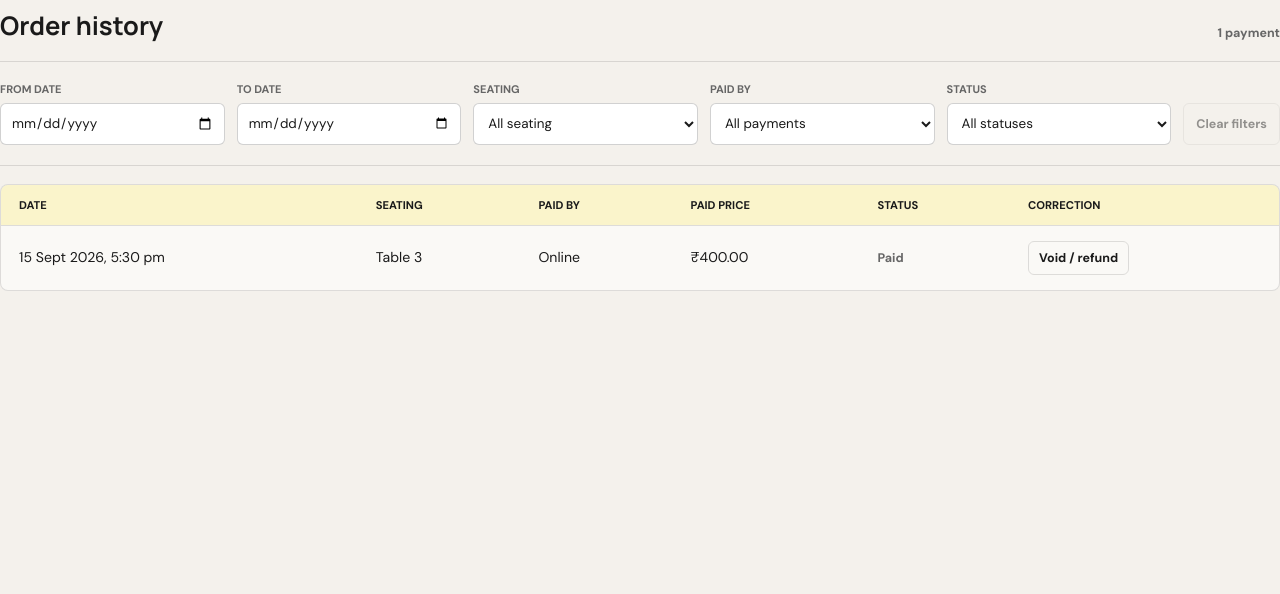
financial views › dismisses the refund review when the server rejects the correction
Click the button "Void / refund" at (1079, 258), box top-left (1028, 240), bottom-right (1129, 274)
(page scrolled)
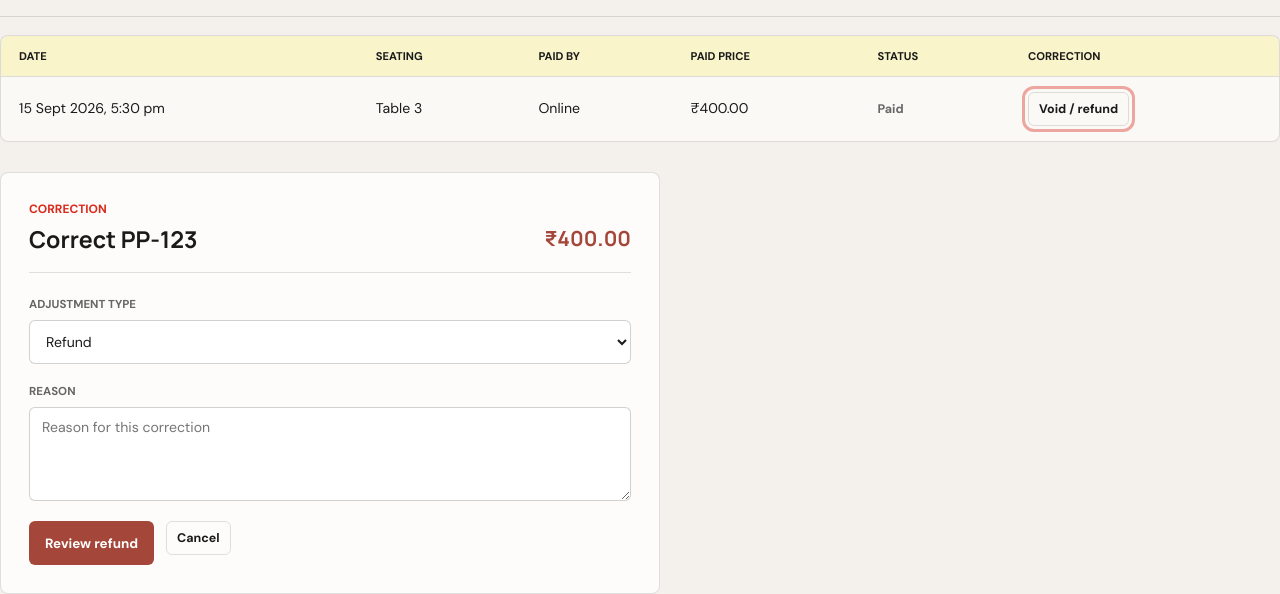
Type "Duplicate payment" into the text box labelled "Reason" at (330, 454), box top-left (29, 407), bottom-right (631, 501)
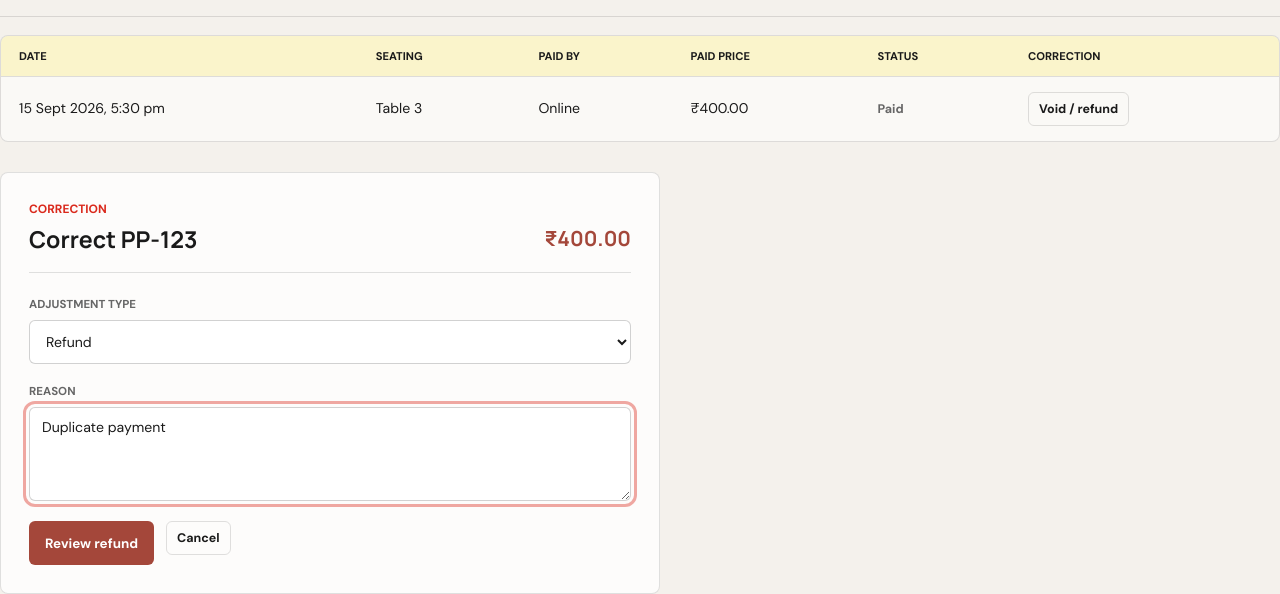
Click the button "Review refund" at (92, 543), box top-left (29, 521), bottom-right (154, 565)
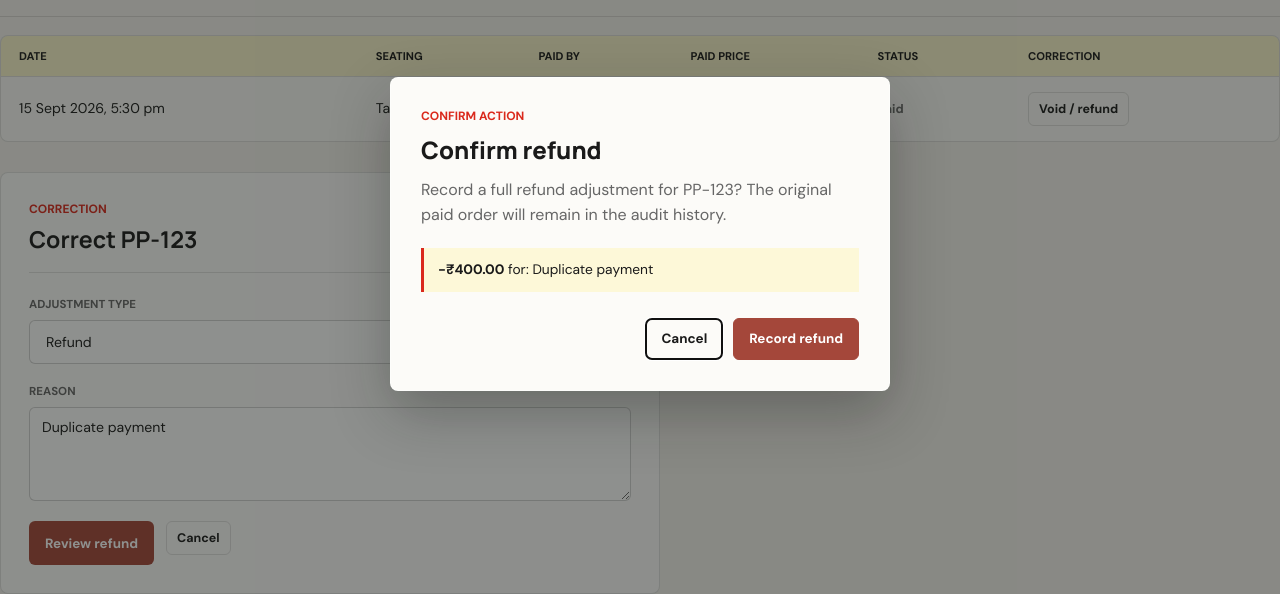
Click the button "Record refund" at (796, 339), box top-left (733, 318), bottom-right (859, 360)
(page scrolled)
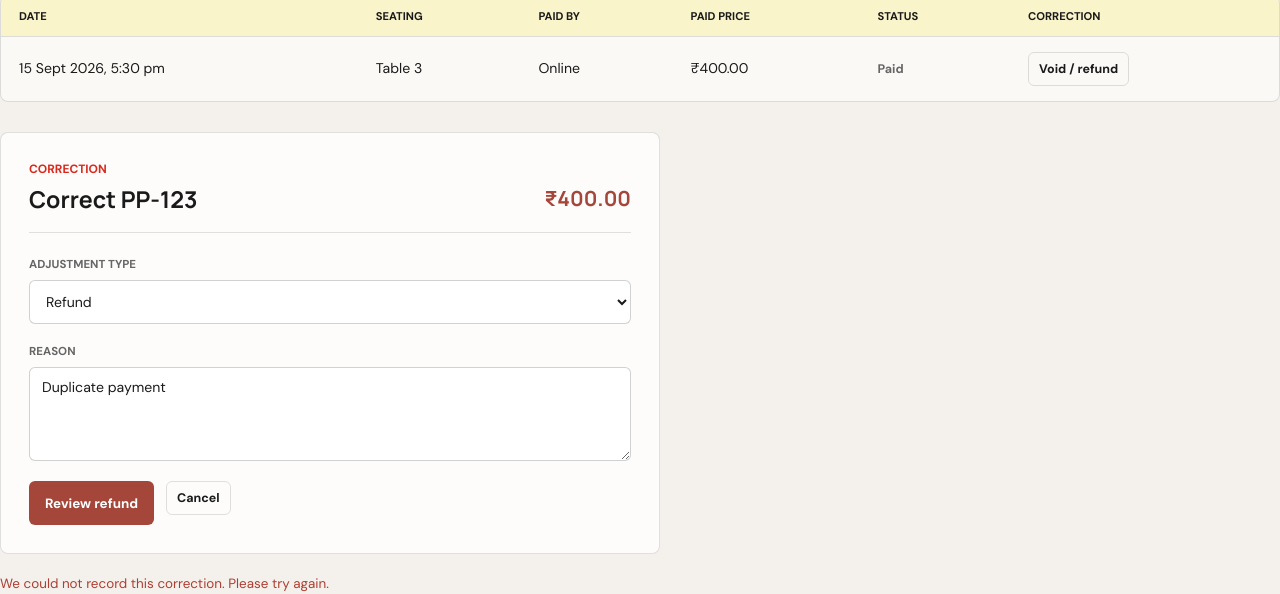
Expected: the text "We could not record this correction. Please try again." is shown, top-left (0, 575), bottom-right (329, 592)
Expected: the dialog is gone
